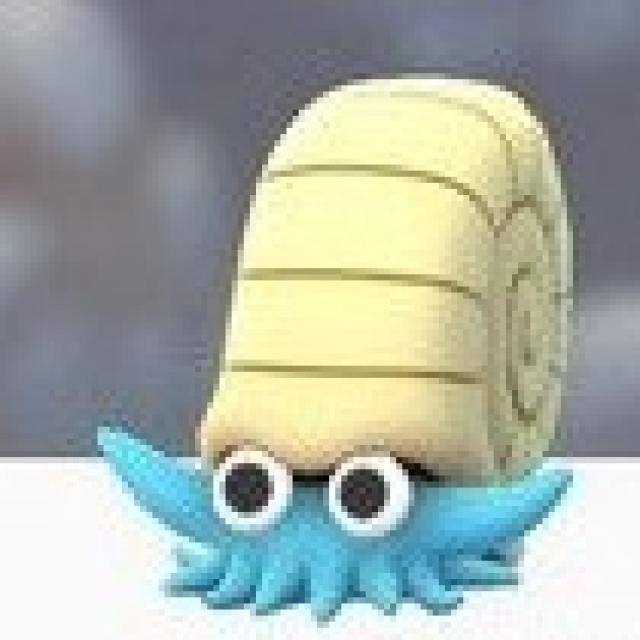Omanyte: (101, 56, 604, 624)
